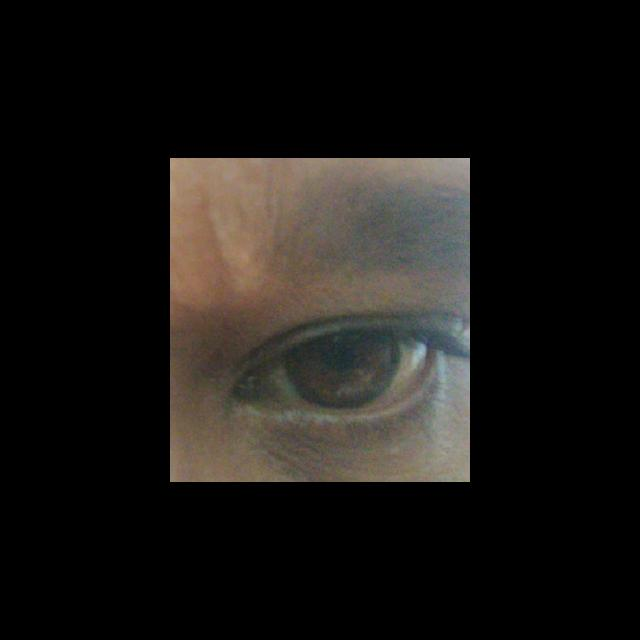eye: (261, 327, 430, 413)
iris: (285, 333, 401, 407)
